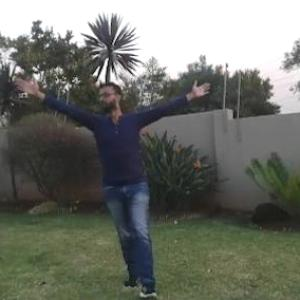takeoff: (1, 46, 240, 288)
